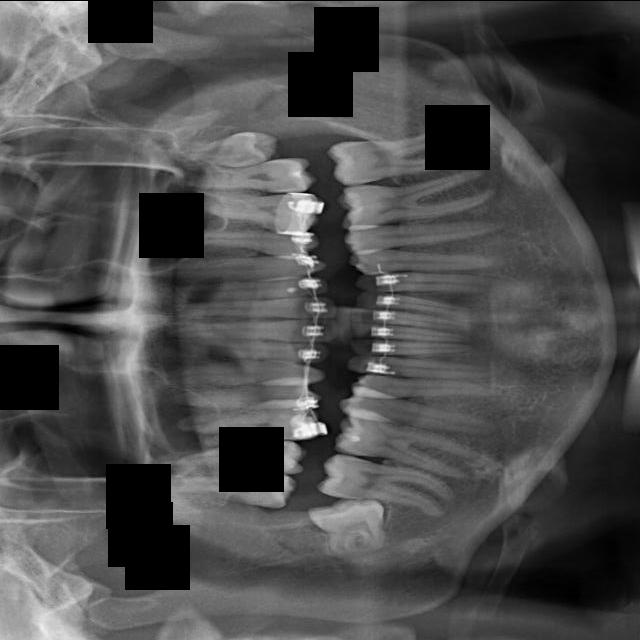3M ESPE Implant: (154, 465, 299, 509)
AGS Medikal Implant: (324, 121, 477, 188)
AMerOss Implant: (334, 163, 503, 232)
Amalgam filling: (169, 438, 307, 474)
Anthogyr Implant: (342, 210, 510, 253)
Bicon Implant: (347, 244, 498, 273)
BioHorizons Implant: (354, 271, 498, 292)
BioLife Implant: (353, 289, 478, 317)
Biomet 3i Implant: (348, 305, 482, 333)
Blue Sky Bio Implant: (348, 321, 479, 346)
Camlog Implant: (349, 337, 478, 358)
Caries: (169, 274, 330, 304)
Composite filling: (345, 354, 509, 381)
Cowellmedi Implant: (349, 374, 503, 402)
Crown: (337, 384, 505, 450)
DENTSPLY Implant: (175, 398, 327, 449)
Dentatus Implant: (332, 410, 485, 483)
Dentis Implant: (314, 448, 458, 526)
Dentium Implant: (305, 495, 389, 560)
Filling: (163, 377, 323, 409)
Frontier Implant: (142, 356, 326, 389)
Hiossen Implant: (153, 254, 329, 279)
Implant: (165, 318, 341, 343)
Implant Direct: (170, 338, 328, 364)
Keystone Dental Implant: (170, 296, 338, 318)
MIS Implant: (178, 224, 321, 259)
Maxilla: (193, 188, 325, 234)
Megagen Implant: (181, 155, 319, 197)
Neodent Implant: (161, 128, 281, 172)
